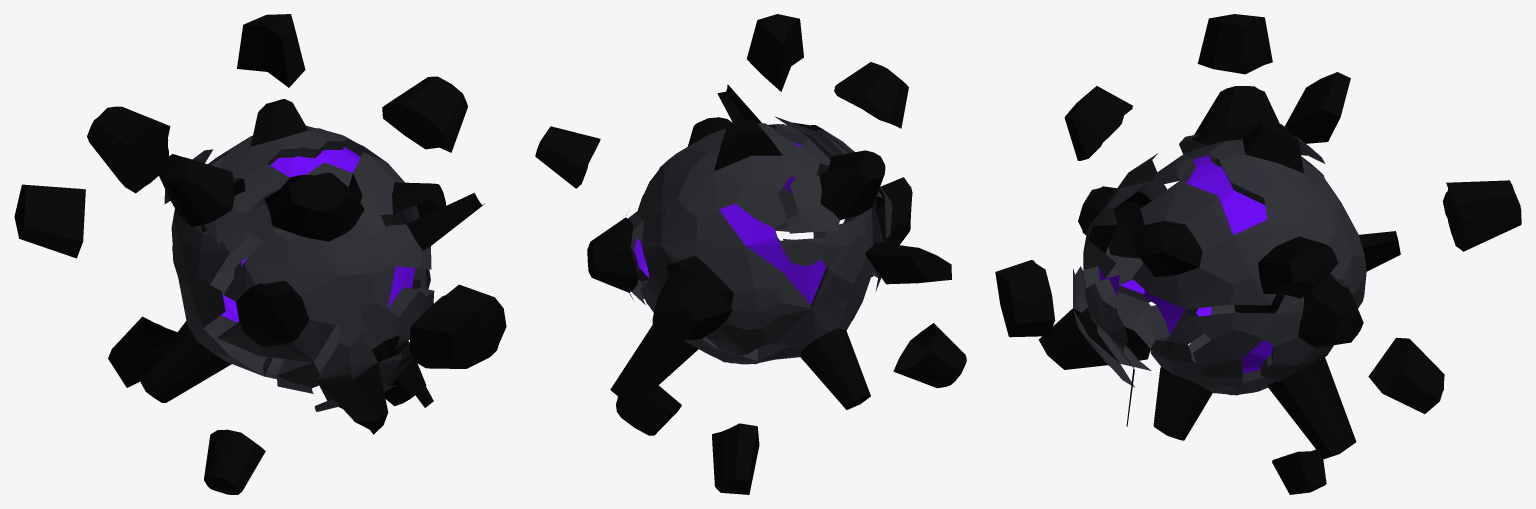
The model's file is Planet2Dest3.glb.
3 views of the same model, side by side, from view 1: azimuth 30°, elevation 25°; view 2: azimuth 150°, elevation 25°; view 3: azimuth 270°, elevation 25° (orthographic). The views are drawn at different scales.
Visible parts, largest first — view 1: Icosphere.039; view 2: Icosphere.039; view 3: Icosphere.039.
Part boxes in pixels (box(x1,y1,x2,y2)): Icosphere.039: box(14, 14, 506, 494); Icosphere.039: box(535, 14, 966, 494); Icosphere.039: box(995, 14, 1521, 494).
Bounding box in the file's own units: 3.31 × 3.12 × 3.46.
